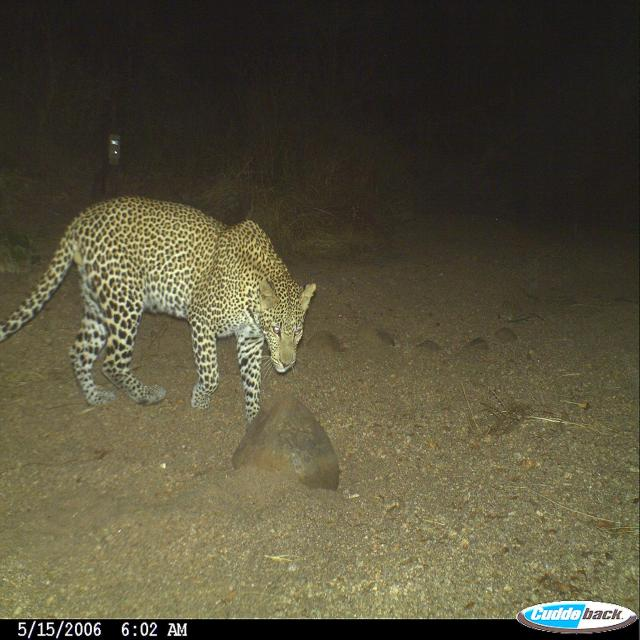Leopard: (0, 190, 317, 429)
